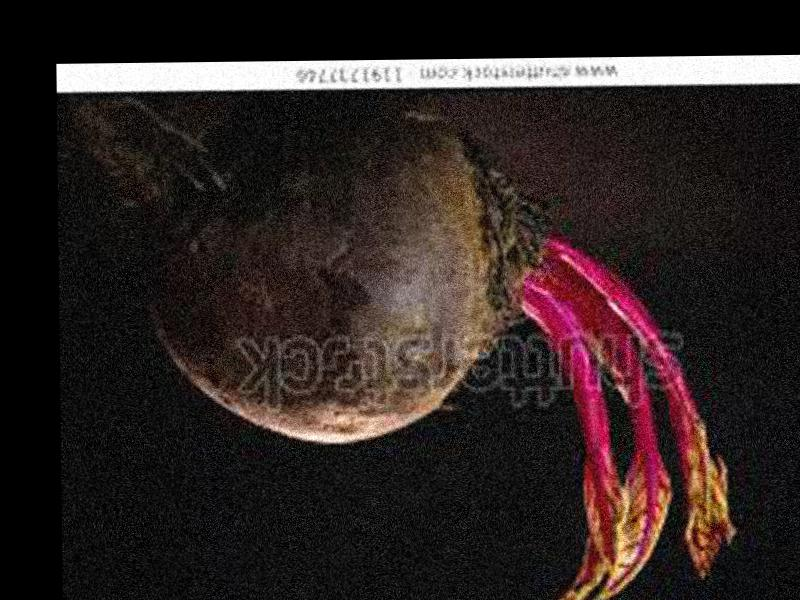Beet: (56, 87, 734, 600)
